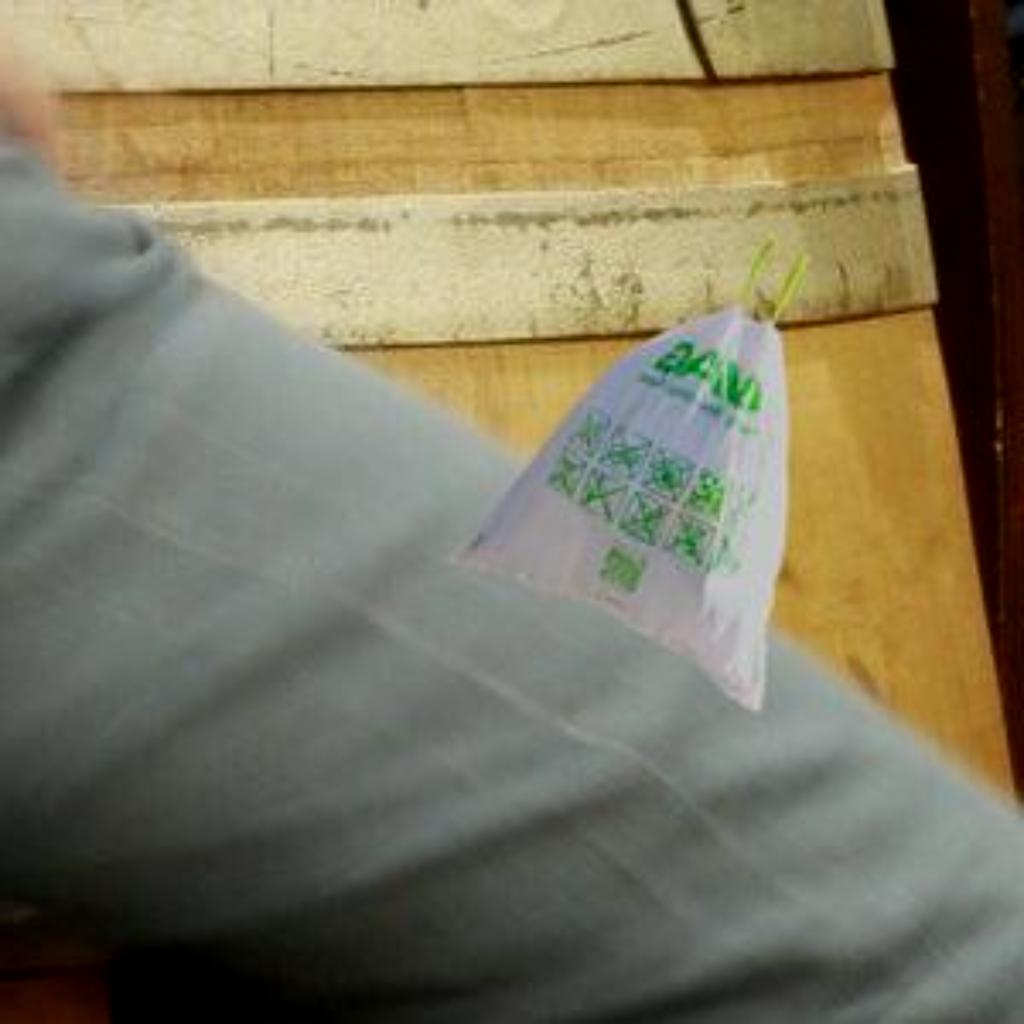garbage: (437, 247, 850, 739)
